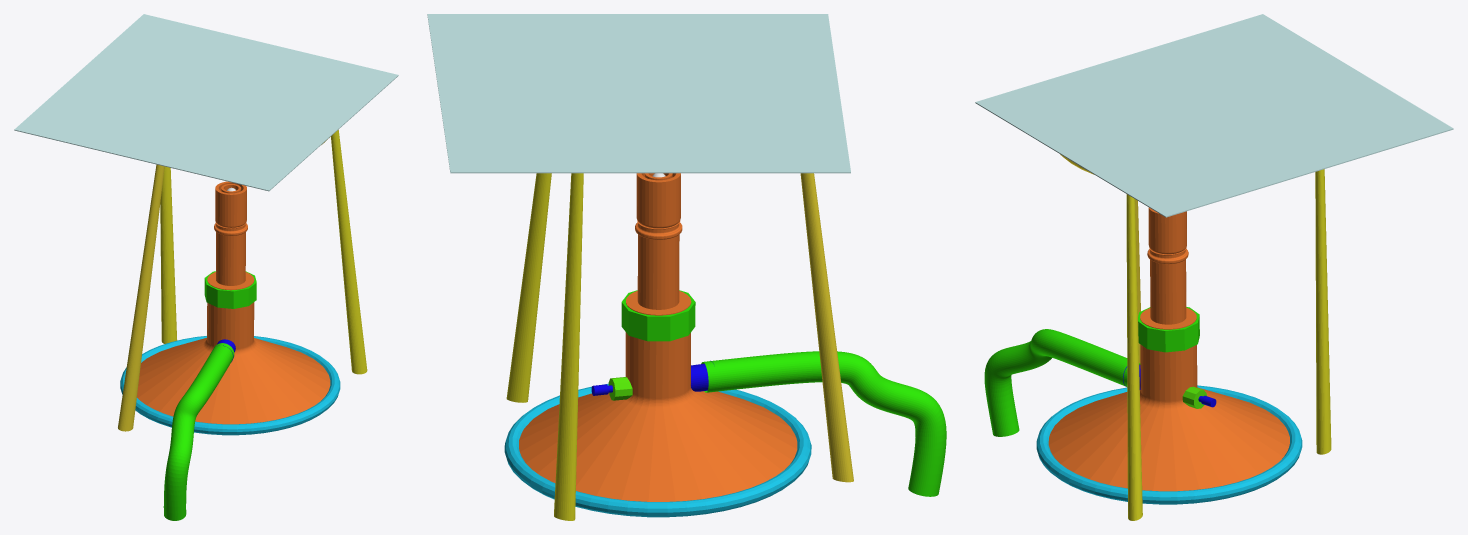
Rendered from finalburnerNov19.glb.
The picture shows the model from 3 angles, left to right: view 1: azimuth 30°, elevation 25°; view 2: azimuth 150°, elevation 25°; view 3: azimuth 270°, elevation 25°; orthographic projection. The views are drawn at different scales.
Visible parts, largest first — view 1: top-Plane, busernburner.007, ring-stand; view 2: top-Plane, busernburner.007, ring-stand; view 3: top-Plane, busernburner.007, ring-stand.
Boxes of the visible parts, <box> form: top-Plane: <box>14,14,398,191</box>; busernburner.007: <box>120,181,340,520</box>; ring-stand: <box>118,130,367,431</box>; top-Plane: <box>427,14,850,173</box>; busernburner.007: <box>504,173,946,517</box>; ring-stand: <box>506,173,853,520</box>; top-Plane: <box>975,14,1453,217</box>; busernburner.007: <box>984,207,1302,504</box>; ring-stand: <box>1060,154,1331,520</box>.
Size of the model in its own units: 0.1969 by 0.1797 by 0.1964.
